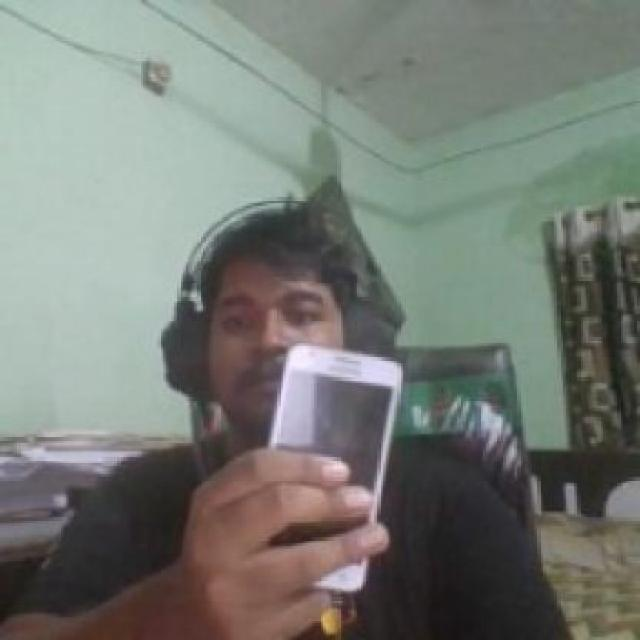Phone: (269, 342, 404, 597)
